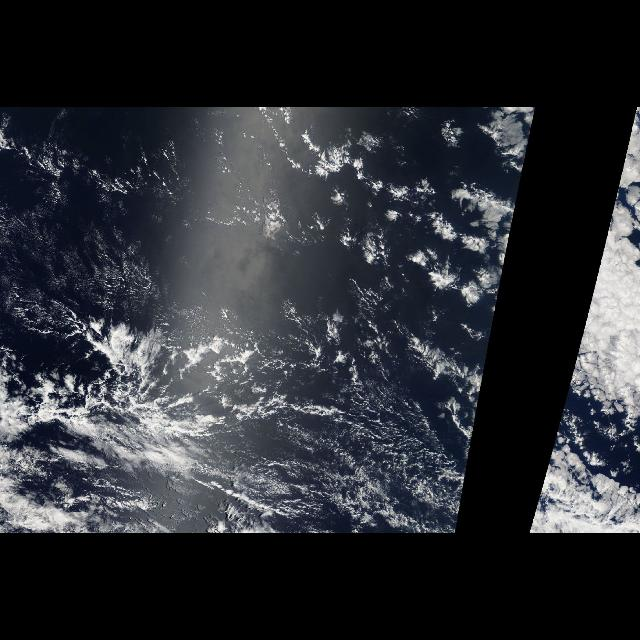Flower: (236, 108, 536, 308)
Gravel: (248, 375, 462, 533)
Sugar: (1, 190, 197, 318)
